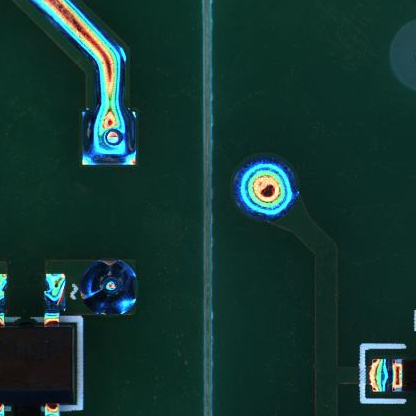spot: (232, 158, 303, 223), (80, 108, 137, 170), (81, 259, 139, 318)
